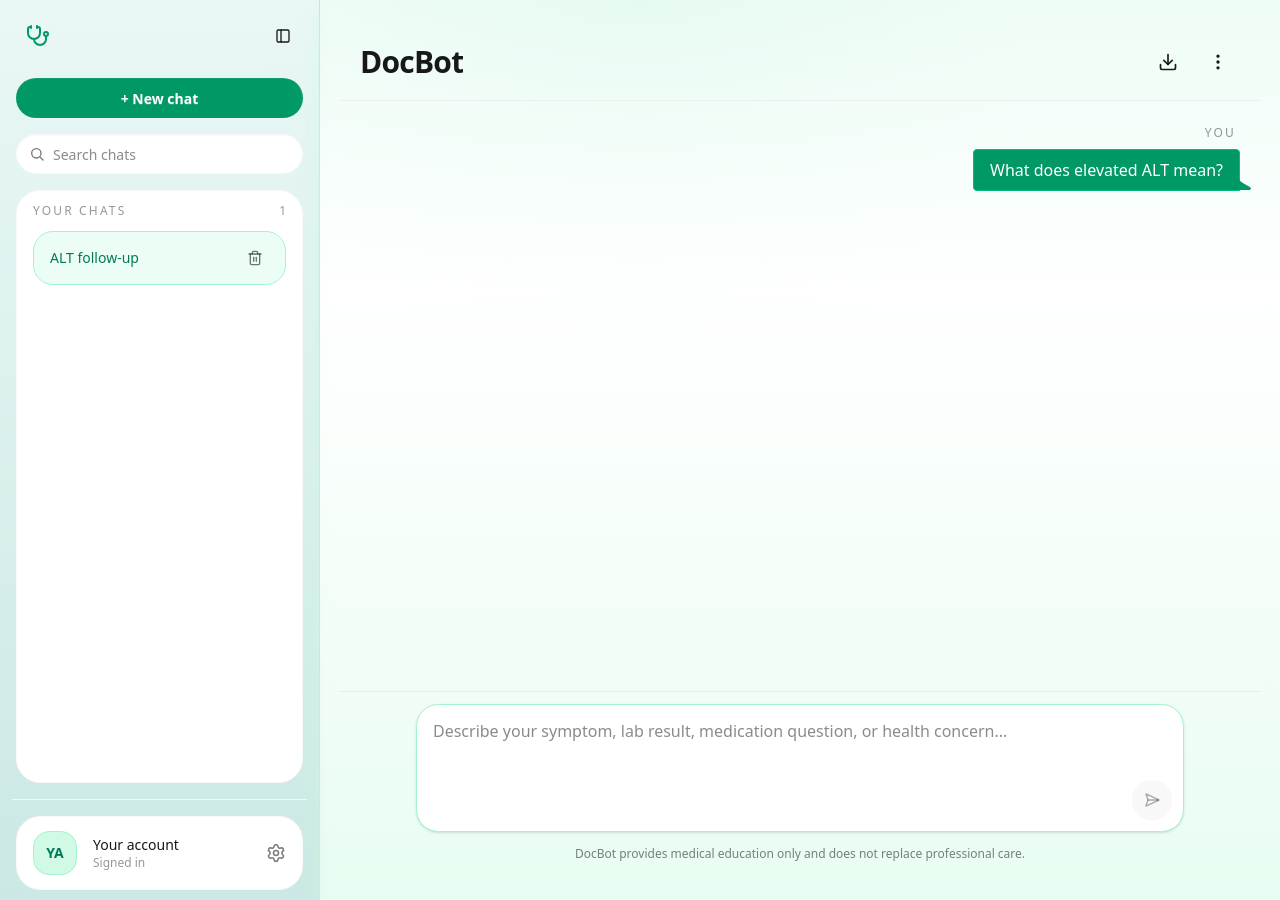
chat shell › deletes the active conversation from the header menu
The width and height of the screenshot is (1280, 900).
Expected: the text "What does elevated ALT mean?" is shown, [973,149,1240,191]
Click the button named "current conversation actions". click: (1218, 62)
box: [1196,40,1240,84]
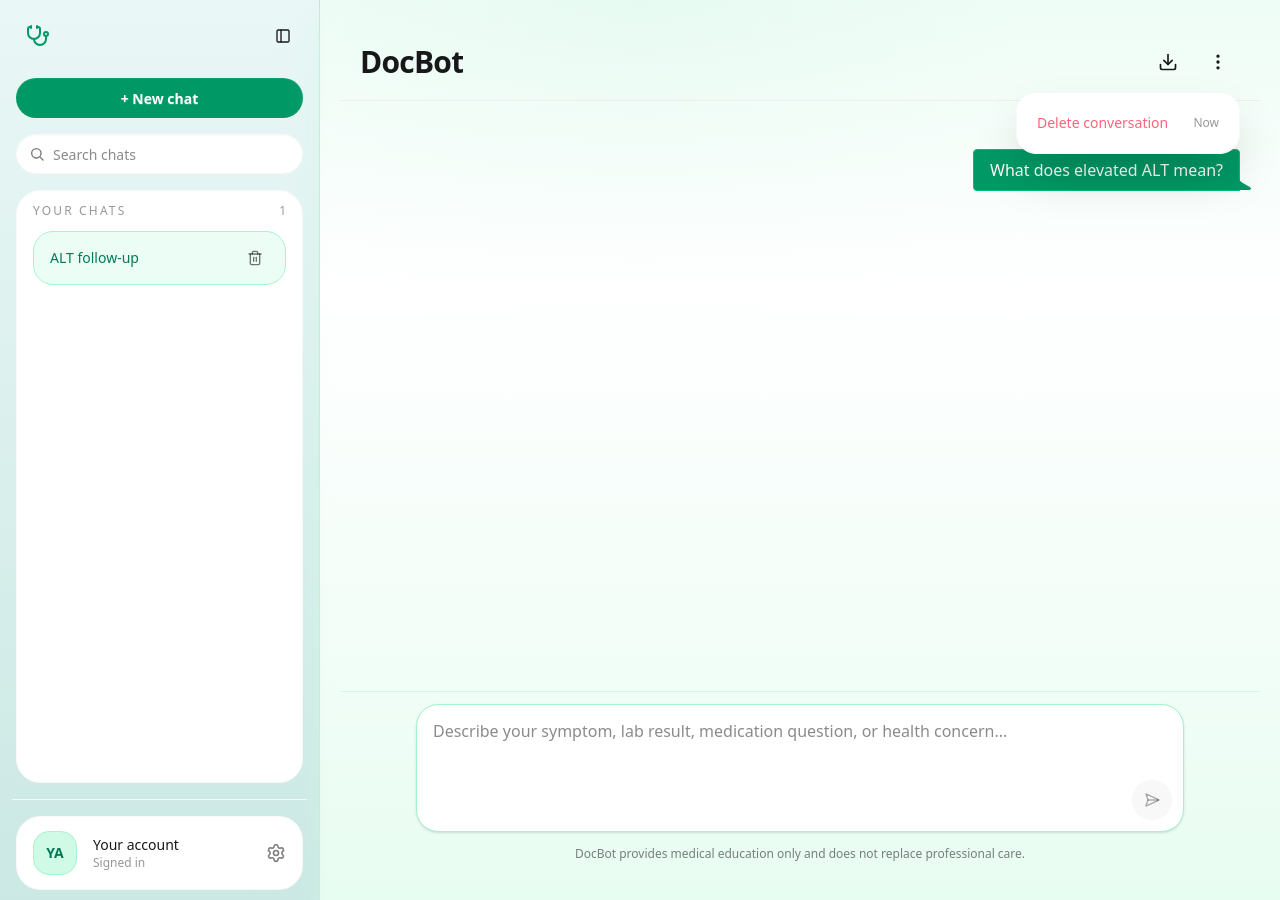
Click the menu item "Delete conversation Now". click: (1128, 123)
box: [1025,101,1231,145]
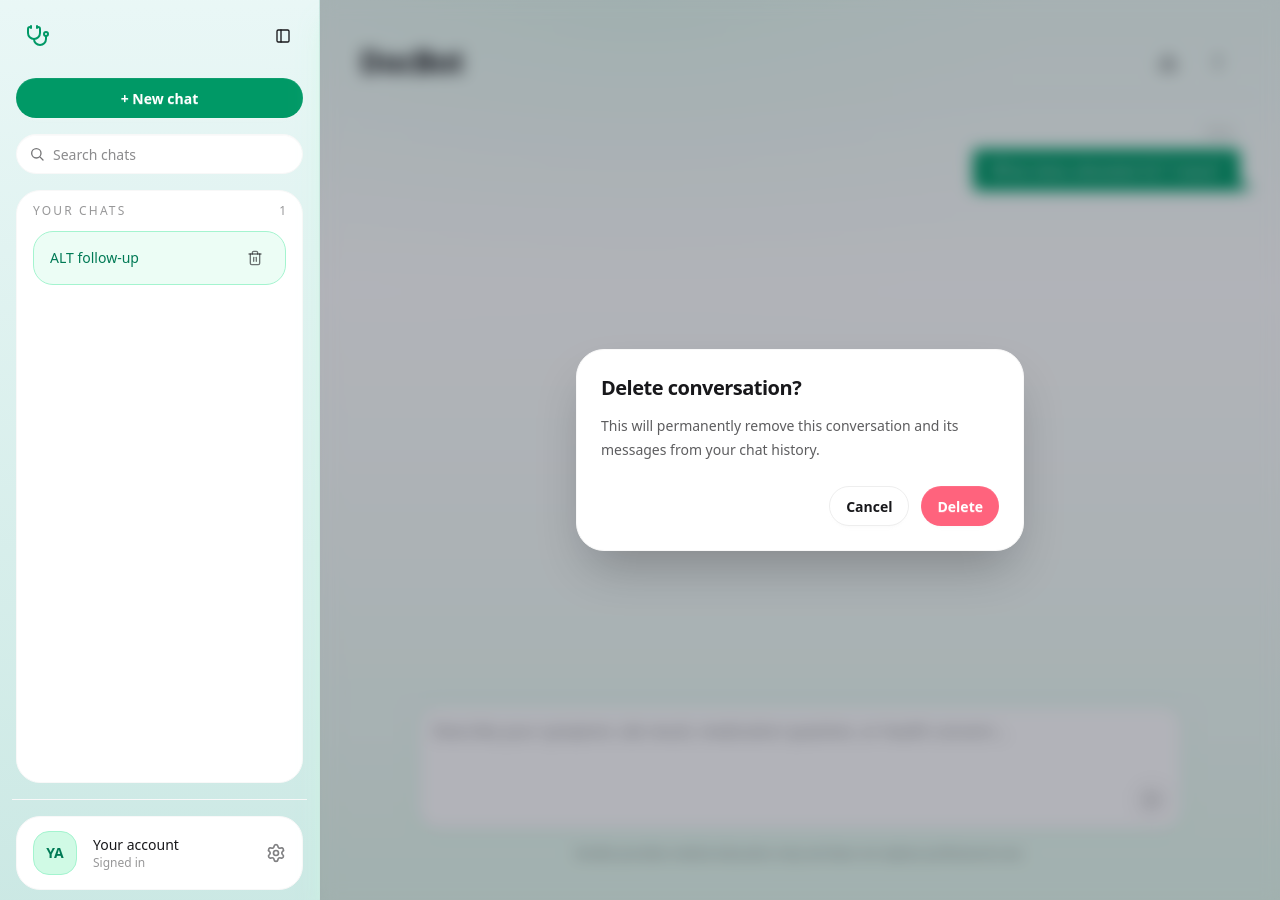
Expected: the dialog "Delete conversation" is shown, [576,349,1024,551]
Click the button "Delete". click: (960, 506)
box: [922,486,999,526]
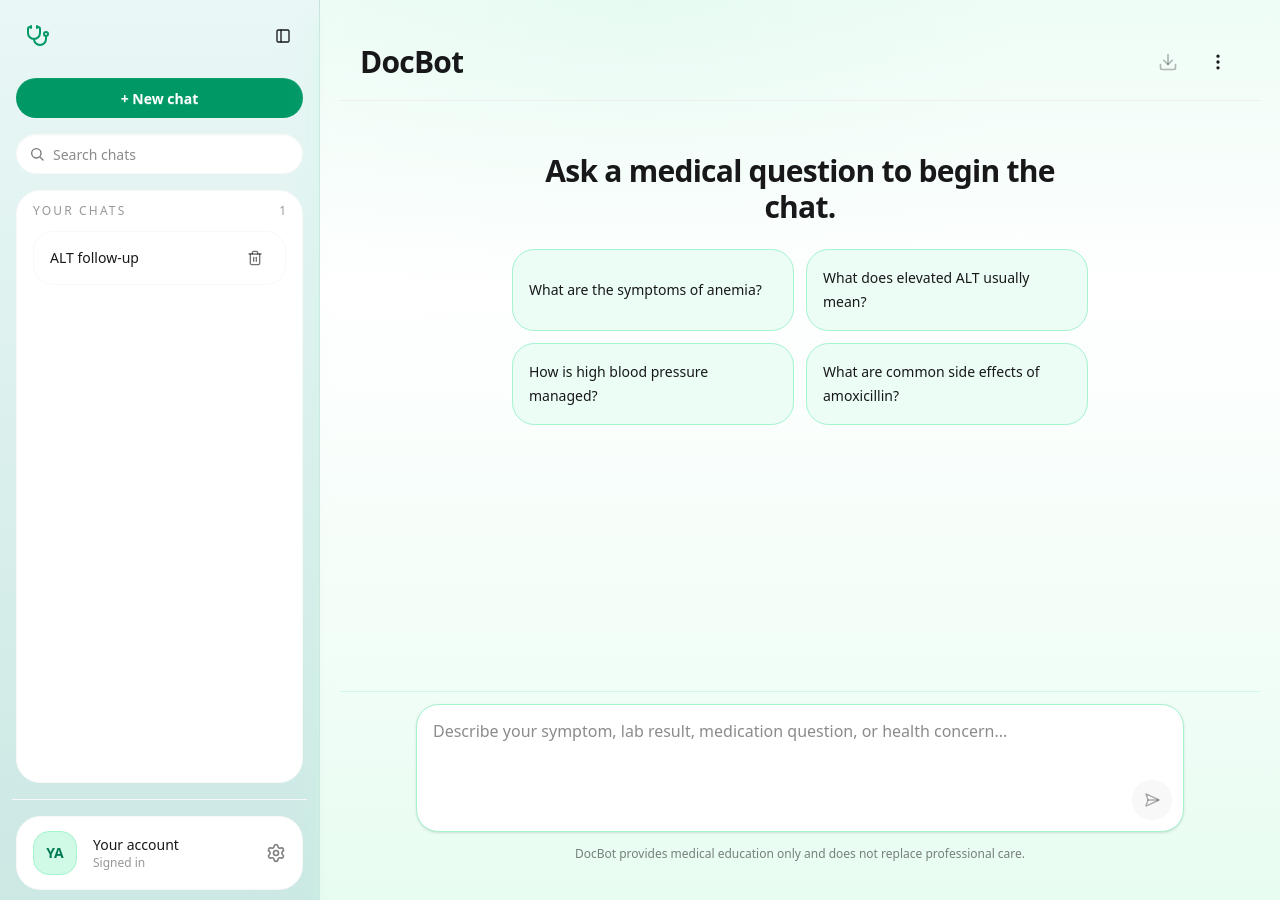
Expected: the heading "Ask a medical question to begin the chat." is shown, [512,153,1088,225]
